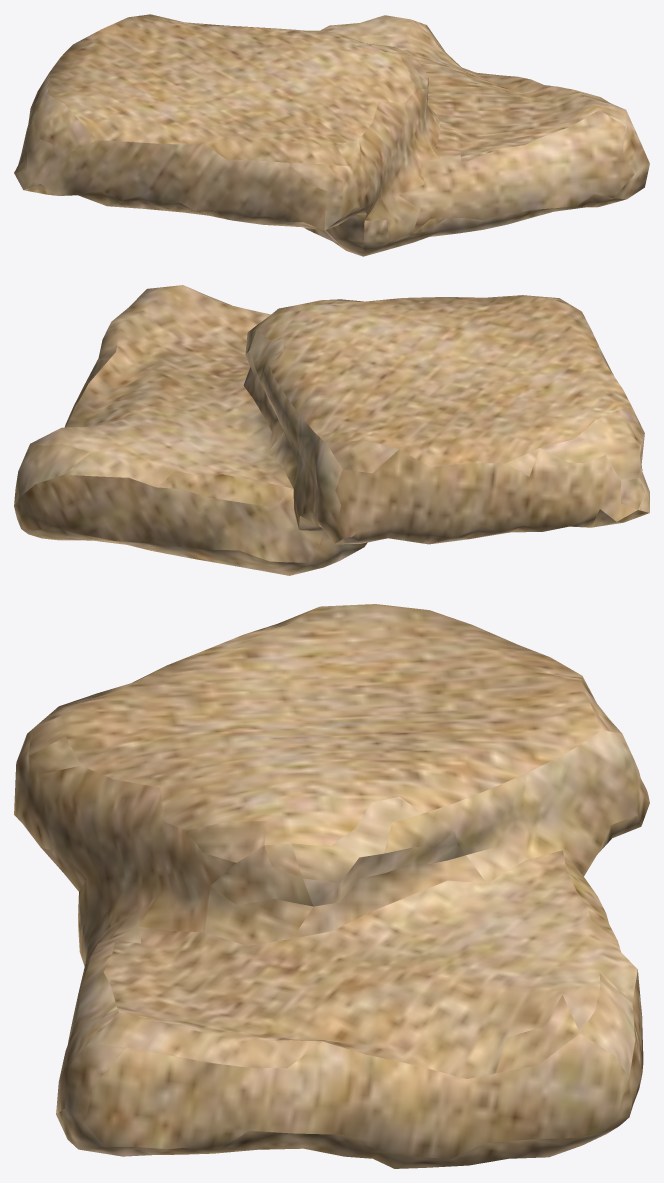
File: plataforma_3.obj
3 views of the same model, one above another, from view 1: azimuth 30°, elevation 25°; view 2: azimuth 150°, elevation 25°; view 3: azimuth 270°, elevation 25° (orthographic). The views are drawn at different scales.
Visible parts, largest first — view 1: plataforma_3_Stone_C; view 2: plataforma_3_Stone_C; view 3: plataforma_3_Stone_C.
Boxes of the visible parts, <box> form: plataforma_3_Stone_C: <box>14,14,649,256</box>; plataforma_3_Stone_C: <box>14,285,649,575</box>; plataforma_3_Stone_C: <box>14,604,649,1168</box>.
Bounding box in the file's own units: 2.65 × 0.7934 × 1.81.
1 material, 1 textured.
